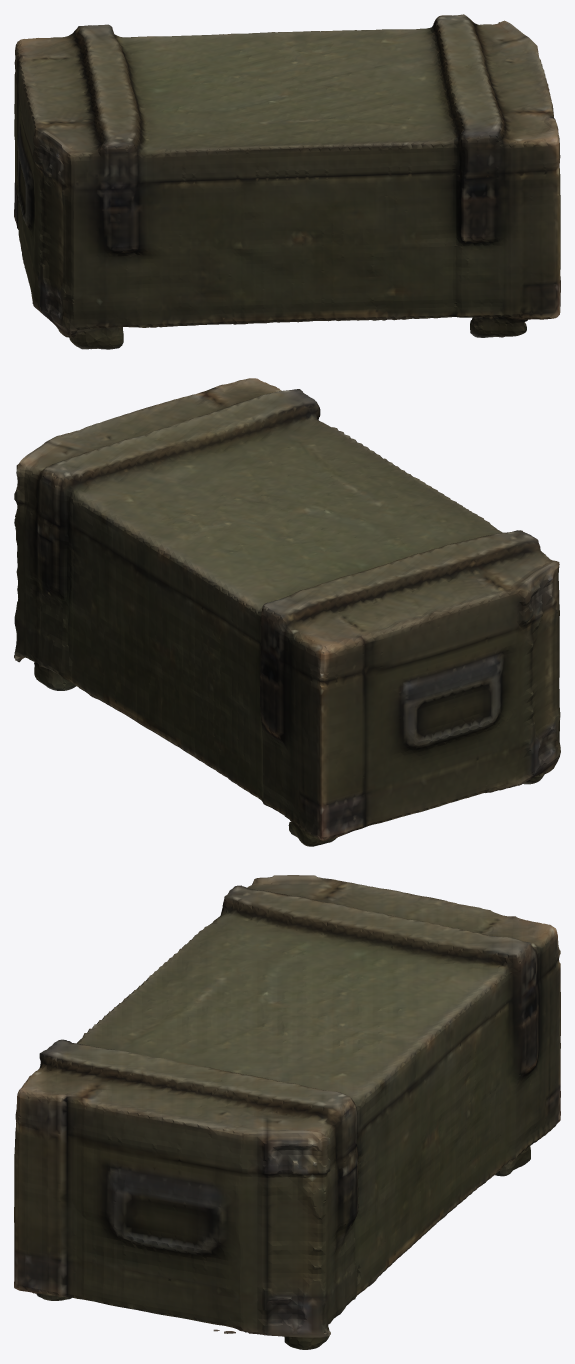
The picture shows the model from 3 angles, top to bottom: view 1: azimuth 30°, elevation 25°; view 2: azimuth 150°, elevation 25°; view 3: azimuth 270°, elevation 25°; orthographic projection. The views are drawn at different scales.
Size of the model in its own units: 2 by 0.8686 by 1.79.
